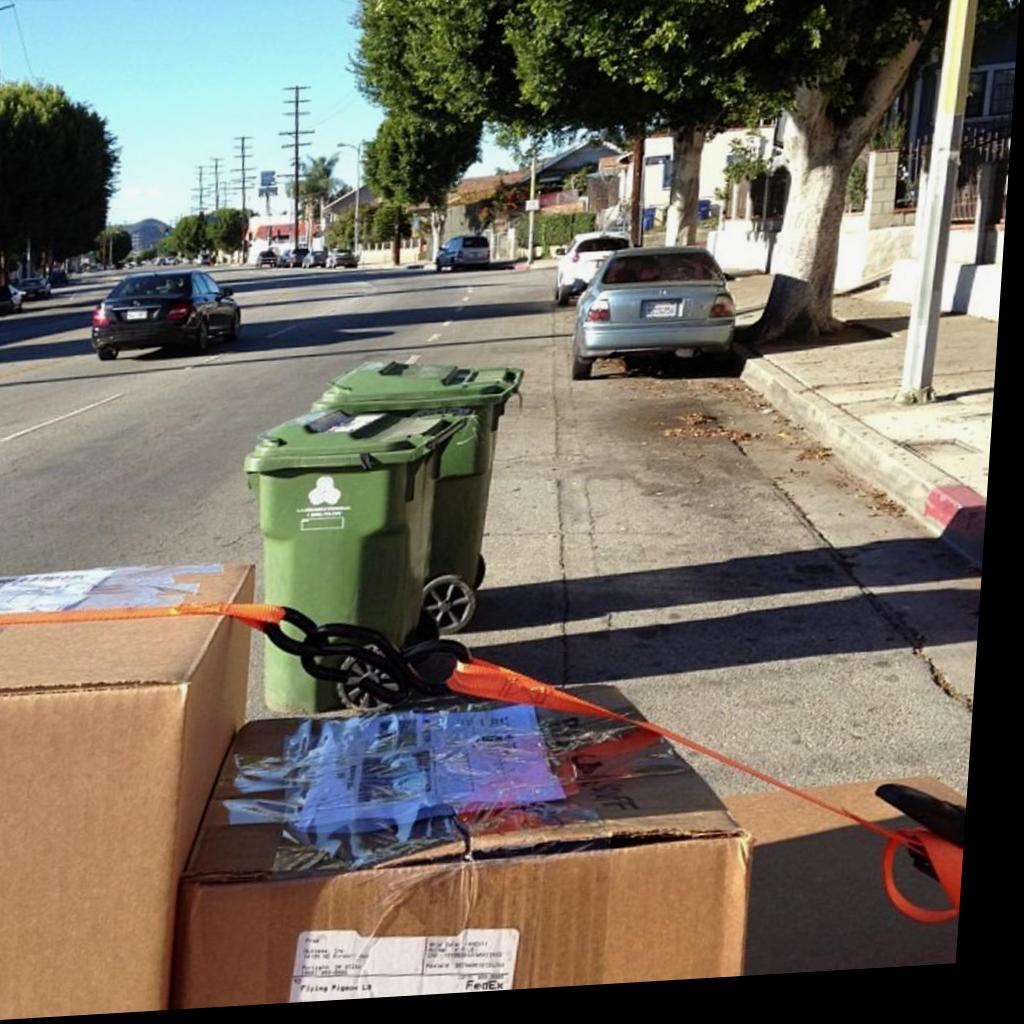License_Plate: (640, 296, 682, 315)
